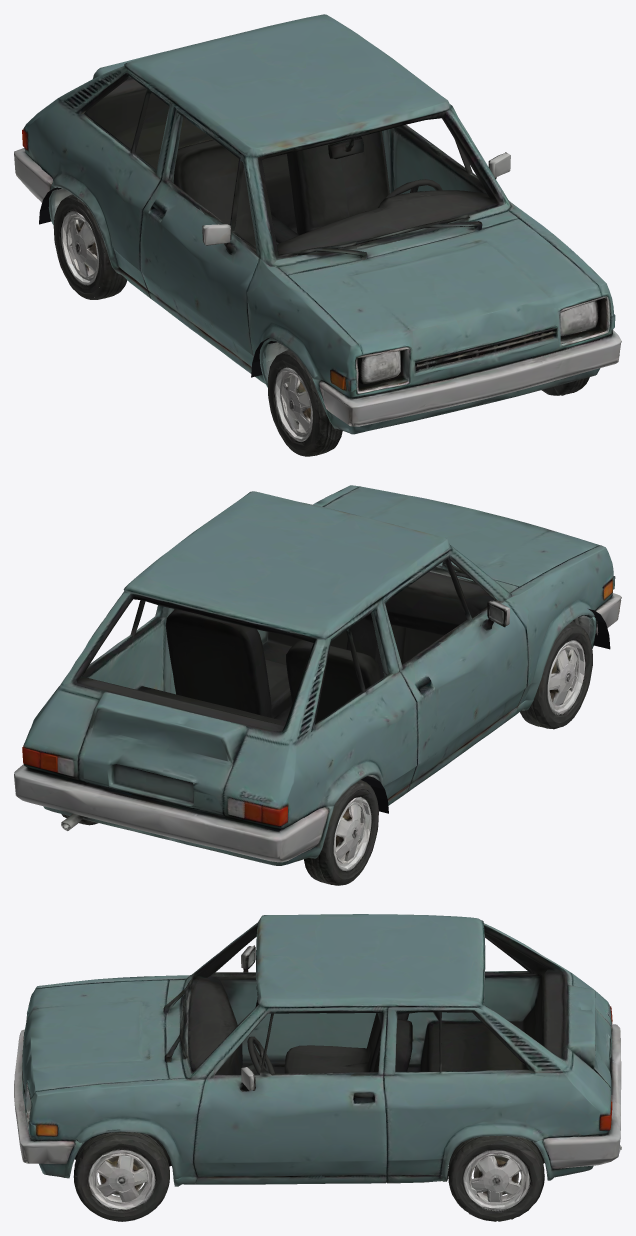
The model's file is car_hatch.glb.
3 views of the same model, one above another, from view 1: azimuth 30°, elevation 25°; view 2: azimuth 150°, elevation 25°; view 3: azimuth 270°, elevation 25° (orthographic). The views are drawn at different scales.
Visible parts, largest first — view 1: body, wheel_FR, wheel_RR; view 2: body, wheel_FR, wheel_RR; view 3: body, wheel_FL, wheel_RL.
Part boxes in pixels (x1,y1,x2,y2): body: (14, 14, 621, 434); wheel_FR: (261, 349, 342, 456); wheel_RR: (50, 194, 104, 299); body: (14, 485, 621, 865); wheel_FR: (520, 614, 595, 729); wheel_RR: (304, 780, 378, 885); body: (14, 914, 621, 1219); wheel_FL: (68, 1129, 174, 1221); wheel_RL: (451, 1136, 547, 1221).
Bounding box in the file's own units: 1.93 × 1.45 × 3.8.
Materials: 2 (1 with a texture image).
